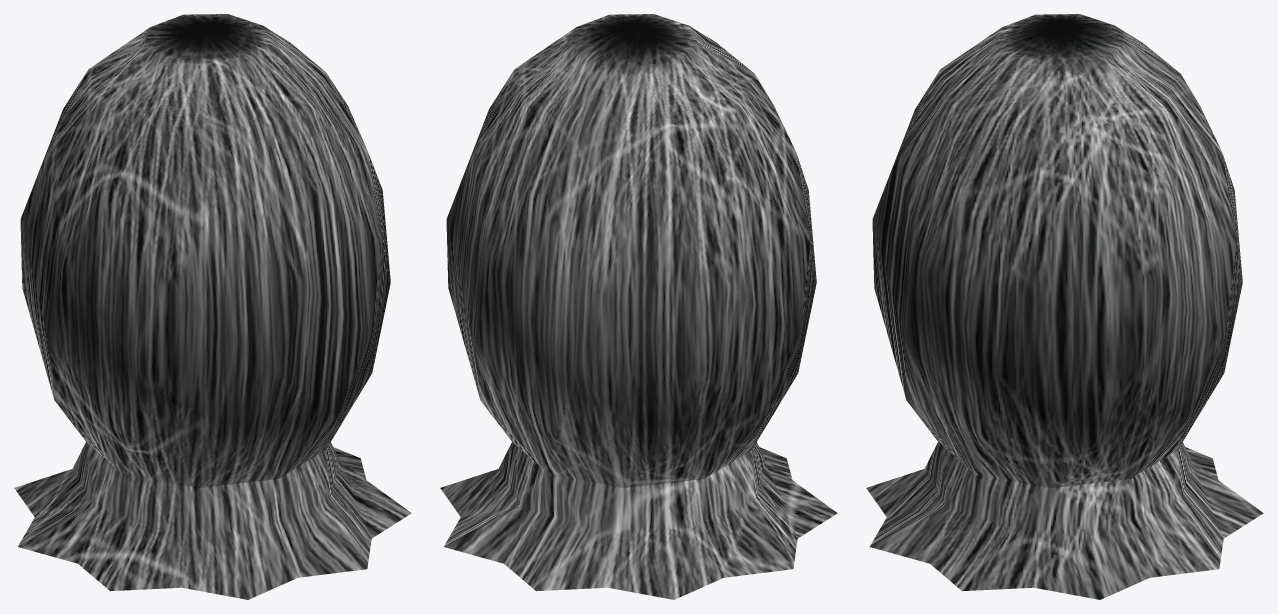
File: INST_EGGSACK.obj
The picture shows the model from 3 angles, left to right: view 1: azimuth 30°, elevation 25°; view 2: azimuth 150°, elevation 25°; view 3: azimuth 270°, elevation 25°; orthographic projection.
Parts seen in each view (by area): view 1: sackUpper, sackBase; view 2: sackUpper, sackBase; view 3: sackUpper, sackBase.
Part boxes in pixels (x1,y1,x2,y2): sackUpper: (20,14,390,488); sackBase: (14,442,411,599); sackUpper: (446,14,816,488); sackBase: (440,442,837,599); sackUpper: (872,14,1242,488); sackBase: (866,442,1263,599).
Size of the model in its own units: 60.94 by 81.85 by 60.28.
